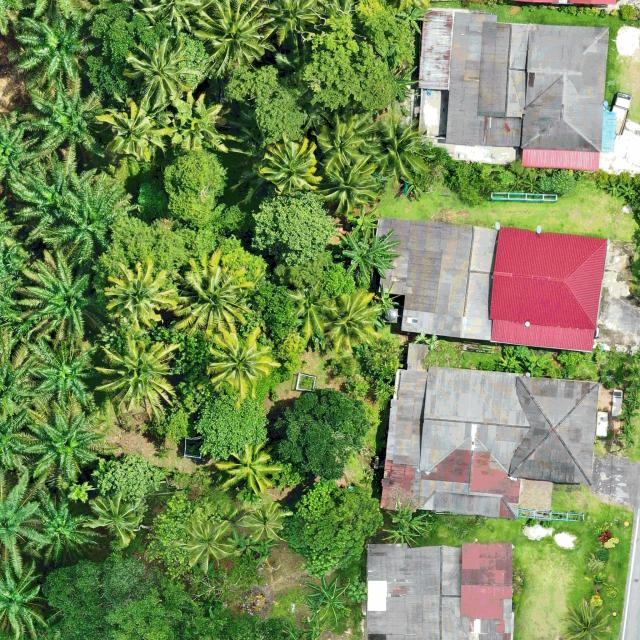0: (1, 148, 96, 242), (45, 173, 142, 265), (6, 5, 99, 98), (166, 249, 254, 343), (17, 70, 108, 153), (18, 398, 103, 486), (15, 250, 96, 342), (94, 336, 175, 414), (101, 254, 177, 334), (189, 0, 269, 73), (96, 89, 174, 163), (248, 189, 336, 254), (22, 336, 98, 411), (24, 489, 100, 563), (356, 111, 432, 183), (206, 325, 276, 397), (120, 36, 190, 106), (214, 440, 285, 498), (318, 154, 382, 218), (255, 138, 323, 195), (325, 290, 384, 354), (287, 284, 342, 348), (86, 490, 145, 545), (257, 0, 320, 50), (312, 112, 367, 168), (180, 519, 236, 573), (559, 599, 613, 640), (245, 500, 292, 542)
banana_tree2: (332, 224, 402, 282), (375, 44, 420, 110), (382, 498, 430, 548), (300, 597, 336, 640), (306, 573, 347, 609), (320, 582, 352, 625), (395, 5, 434, 35), (346, 206, 381, 235), (524, 348, 554, 378), (499, 351, 524, 373), (606, 180, 623, 198), (621, 182, 636, 199)
tree: (98, 213, 268, 294), (298, 0, 414, 110), (286, 477, 384, 578), (274, 388, 373, 478), (223, 63, 309, 139), (193, 386, 269, 461), (162, 145, 228, 224), (90, 452, 168, 504), (255, 281, 299, 346), (272, 258, 330, 288), (322, 261, 357, 297), (617, 402, 640, 426), (618, 422, 636, 449), (622, 359, 640, 382), (619, 4, 637, 20), (626, 378, 640, 394)
